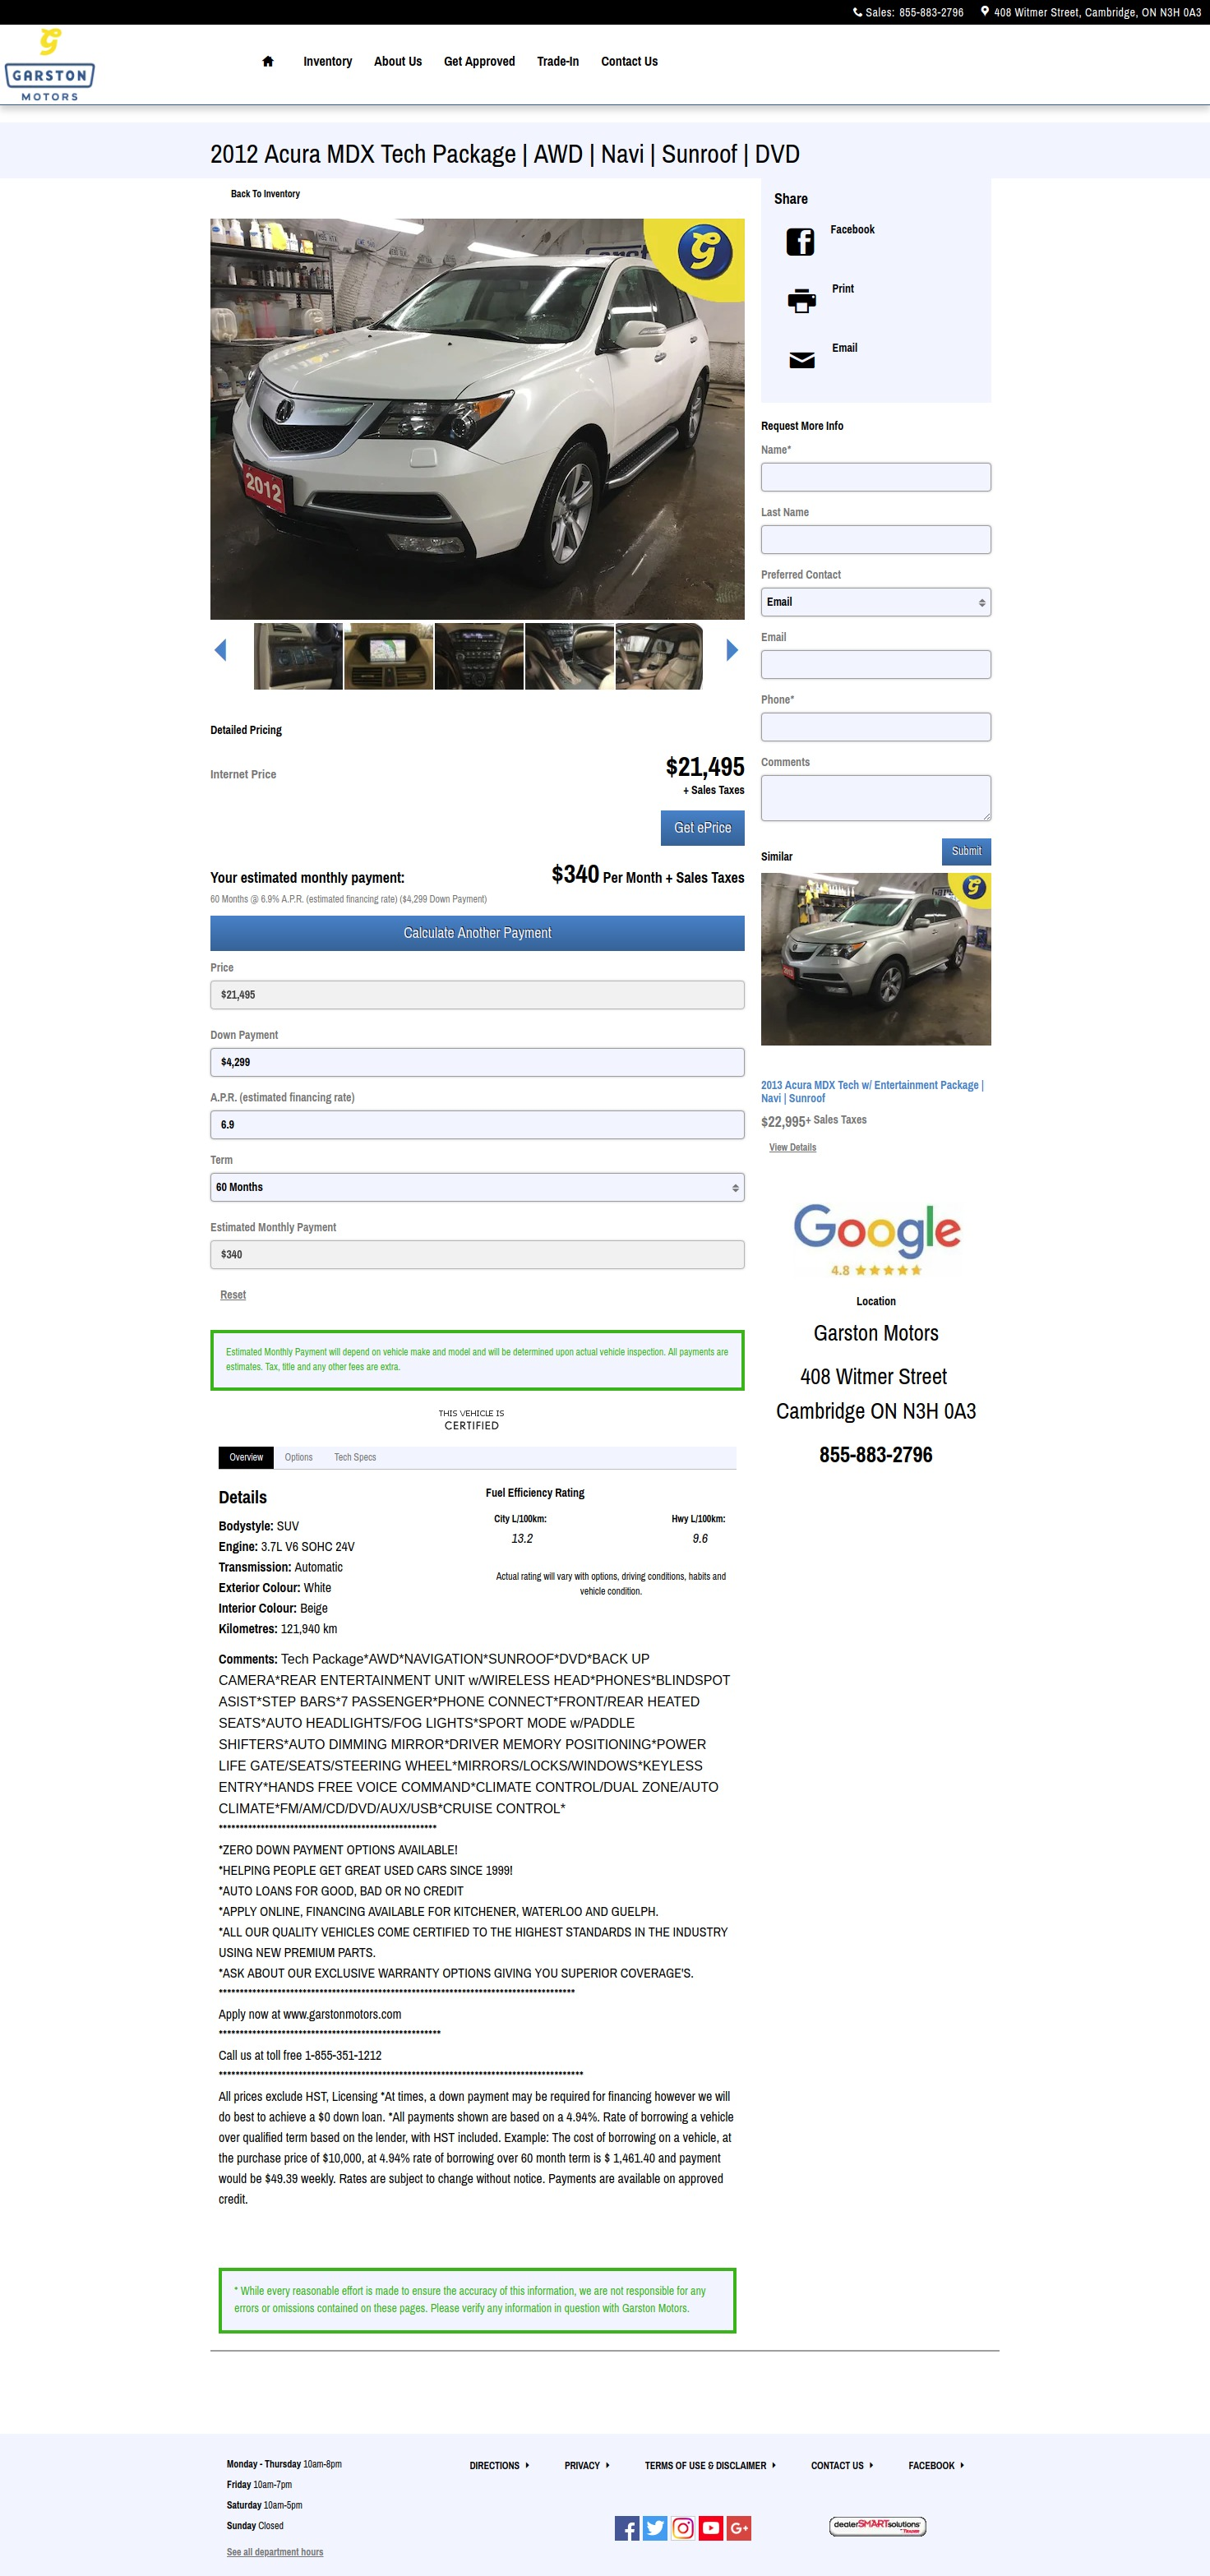car: (727, 639, 740, 662)
